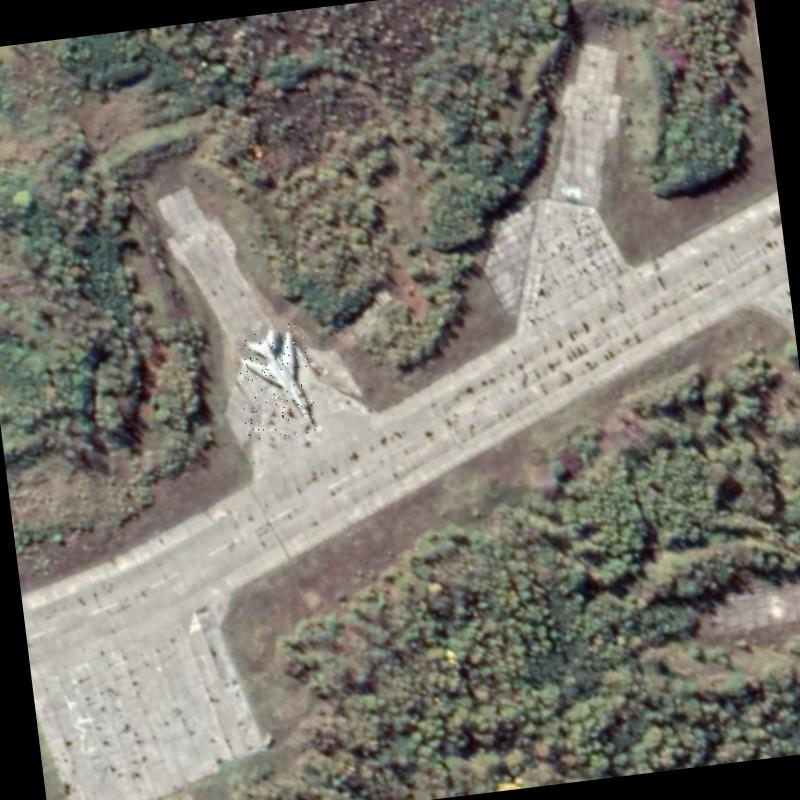A12: (234, 321, 318, 441)
